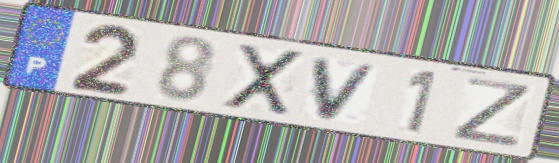1: (404, 70, 441, 137)
2: (69, 22, 145, 99)
8: (152, 34, 219, 106)
V: (310, 55, 385, 124)
X: (222, 41, 306, 118)
Z: (448, 74, 536, 150)
